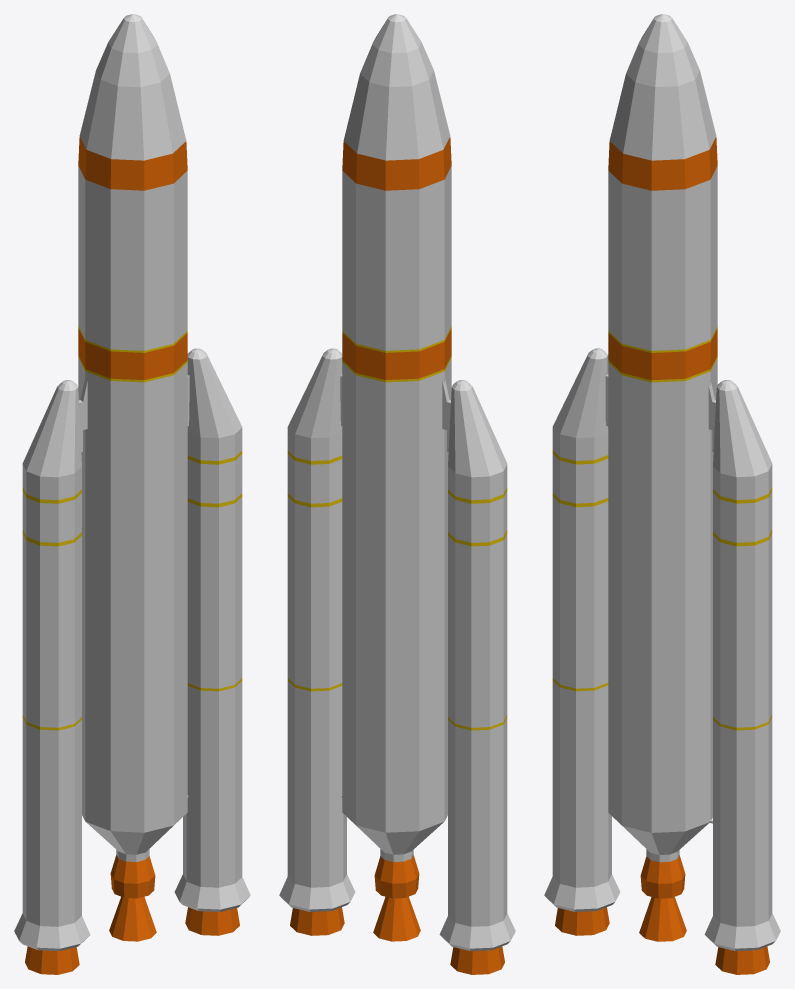
File: rocket.fbx
The picture shows the model from 3 angles, left to right: view 1: azimuth 30°, elevation 25°; view 2: azimuth 150°, elevation 25°; view 3: azimuth 330°, elevation 25°; orthographic projection.
Visible parts, largest first — view 1: rocket_; view 2: rocket_; view 3: rocket_.
Boxes of the visible parts, <box> form: rocket_: <box>14,14,250,974</box>; rocket_: <box>279,14,515,974</box>; rocket_: <box>544,14,780,974</box>.
Bounding box in the file's own units: 463 × 1815 × 185.
